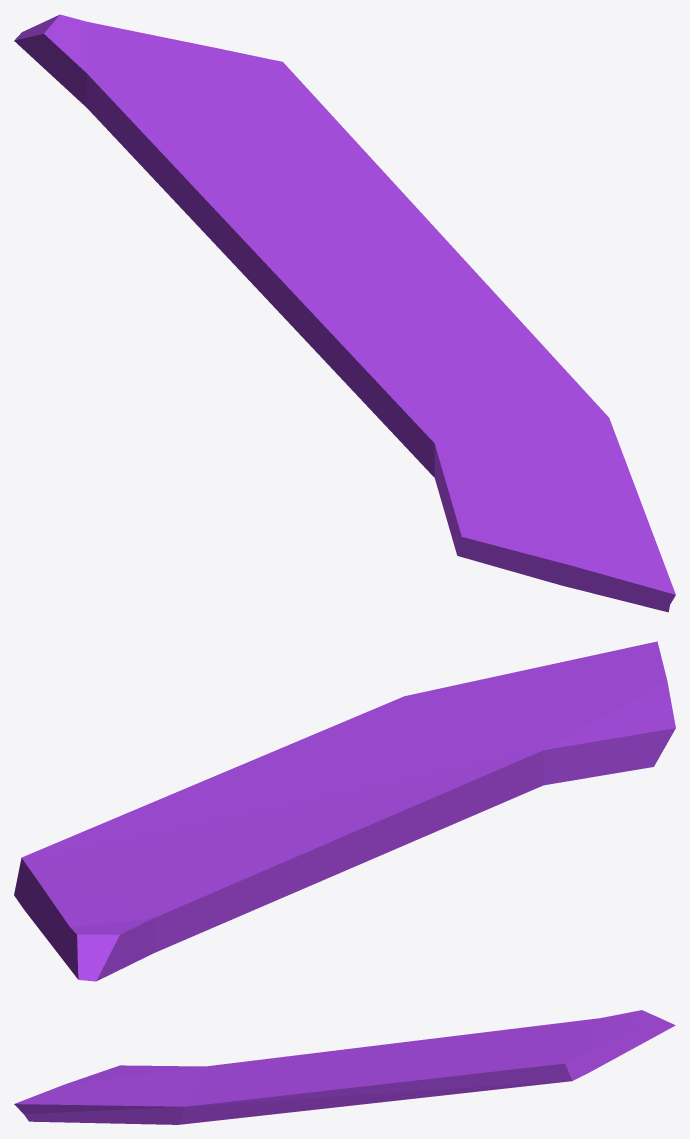
The model's file is Glass_100_3_1_chunks.fbx.
The picture shows the model from 3 angles, top to bottom: view 1: azimuth 30°, elevation 25°; view 2: azimuth 150°, elevation 25°; view 3: azimuth 270°, elevation 25°; orthographic projection. The views are drawn at different scales.
Parts seen in each view (by area): view 1: Glass_100_3_1_1, Glass_100_3_1_6, Glass_100_3_1_5, Glass_100_3_1_4, Glass_100_3_1_3, Glass_100_3_1_2, Glass_100_3_1_0; view 2: Glass_100_3_1_1, Glass_100_3_1_5, Glass_100_3_1_6, Glass_100_3_1_4, Glass_100_3_1_3, Glass_100_3_1_2, Glass_100_3_1_0; view 3: Glass_100_3_1_1, Glass_100_3_1_6, Glass_100_3_1_4, Glass_100_3_1_5, Glass_100_3_1_3, Glass_100_3_1_2, Glass_100_3_1_0.
Boxes of the visible parts, <box> form: Glass_100_3_1_1: <box>14,14,431,241</box>; Glass_100_3_1_6: <box>460,352,675,599</box>; Glass_100_3_1_5: <box>402,412,672,612</box>; Glass_100_3_1_4: <box>321,225,548,380</box>; Glass_100_3_1_3: <box>322,313,462,442</box>; Glass_100_3_1_2: <box>212,211,328,356</box>; Glass_100_3_1_0: <box>301,239,379,283</box>; Glass_100_3_1_1: <box>14,783,299,981</box>; Glass_100_3_1_5: <box>480,650,675,800</box>; Glass_100_3_1_6: <box>333,641,659,750</box>; Glass_100_3_1_4: <box>197,726,428,839</box>; Glass_100_3_1_3: <box>397,746,537,838</box>; Glass_100_3_1_2: <box>295,802,423,892</box>; Glass_100_3_1_0: <box>250,799,349,823</box>; Glass_100_3_1_1: <box>391,1010,675,1100</box>; Glass_100_3_1_6: <box>14,1074,255,1124</box>; Glass_100_3_1_4: <box>244,1053,395,1117</box>; Glass_100_3_1_5: <box>19,1065,224,1122</box>; Glass_100_3_1_3: <box>211,1051,340,1077</box>; Glass_100_3_1_2: <box>328,1036,453,1055</box>; Glass_100_3_1_0: <box>366,1052,407,1070</box>.
Size of the model in its own units: 247 by 183 by 1122.
